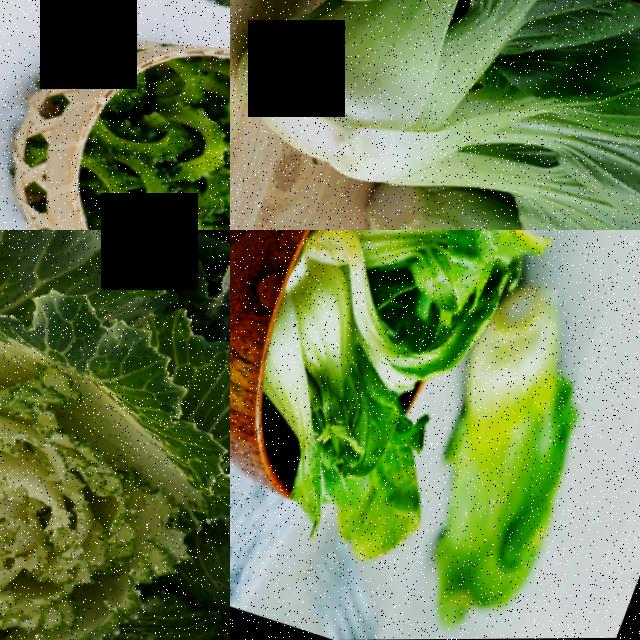bok choy: (252, 0, 602, 216), (252, 230, 499, 450), (345, 171, 640, 230)
cabbage: (0, 276, 230, 640)
